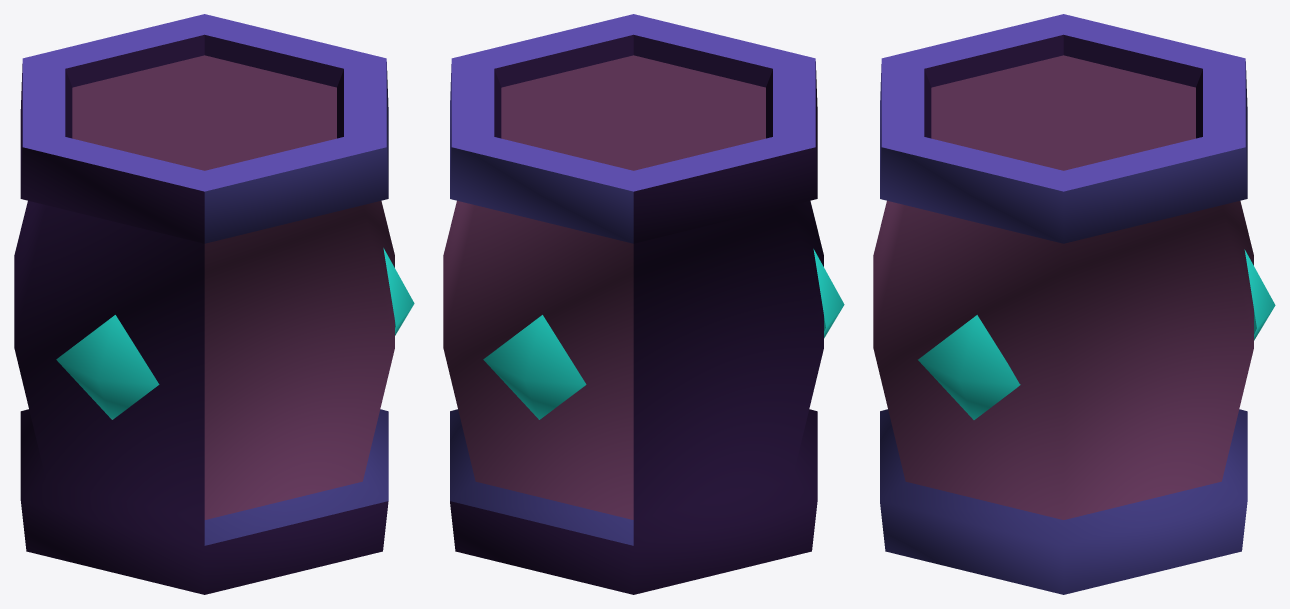
Rendered from barrel.FBX.
3 renders of one model, left to right at view 1: azimuth 30°, elevation 25°; view 2: azimuth 150°, elevation 25°; view 3: azimuth 270°, elevation 25°, orthographic.
Visible parts, largest first — view 1: Cylinder004; view 2: Cylinder004; view 3: Cylinder004.
Part boxes in pixels (bbox=[...]): Cylinder004: bbox=[14, 14, 414, 594]; Cylinder004: bbox=[443, 14, 844, 594]; Cylinder004: bbox=[873, 14, 1275, 594].
Size of the model in its own units: 17.32 by 17.62 by 15.85.
